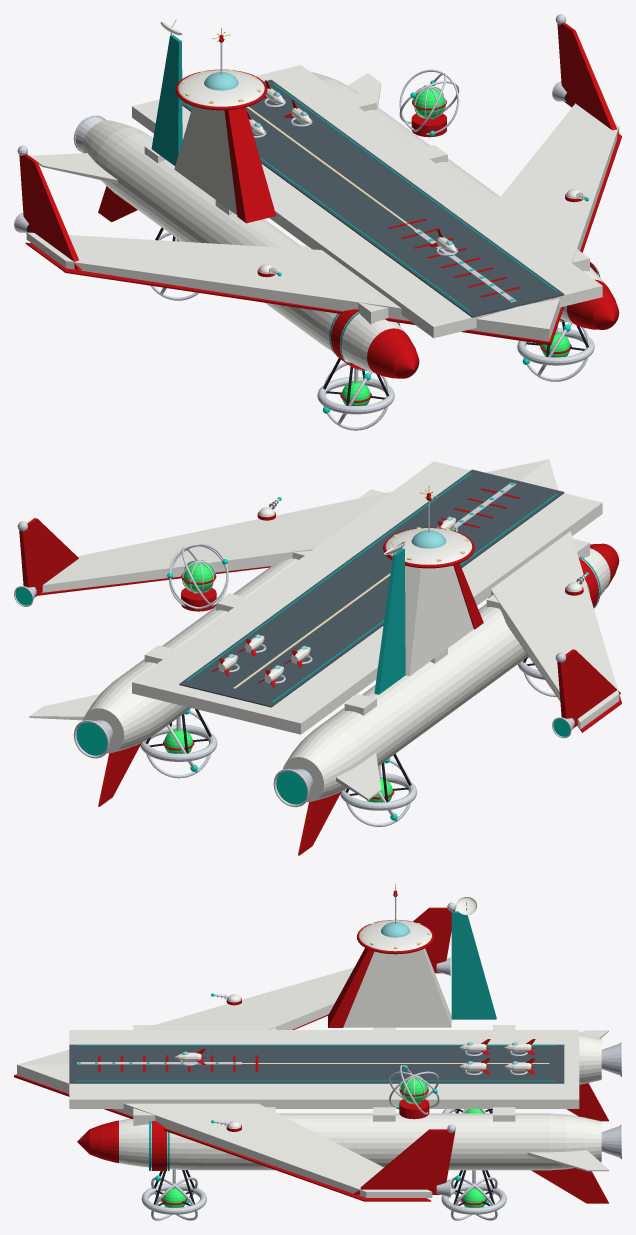
Rendered from carrier.obj.
3 views of the same model, one above another, from view 1: azimuth 30°, elevation 25°; view 2: azimuth 150°, elevation 25°; view 3: azimuth 270°, elevation 25° (orthographic). The views are drawn at different scales.
Visible parts, largest first — view 1: carrier; view 2: carrier; view 3: carrier.
Boxes of the visible parts, bbox=[...] form: carrier: bbox=[14, 14, 621, 430]; carrier: bbox=[14, 459, 621, 855]; carrier: bbox=[14, 884, 621, 1220].
Bounding box in the file's own units: 984 × 508 × 1100.
1 material, 1 textured.
